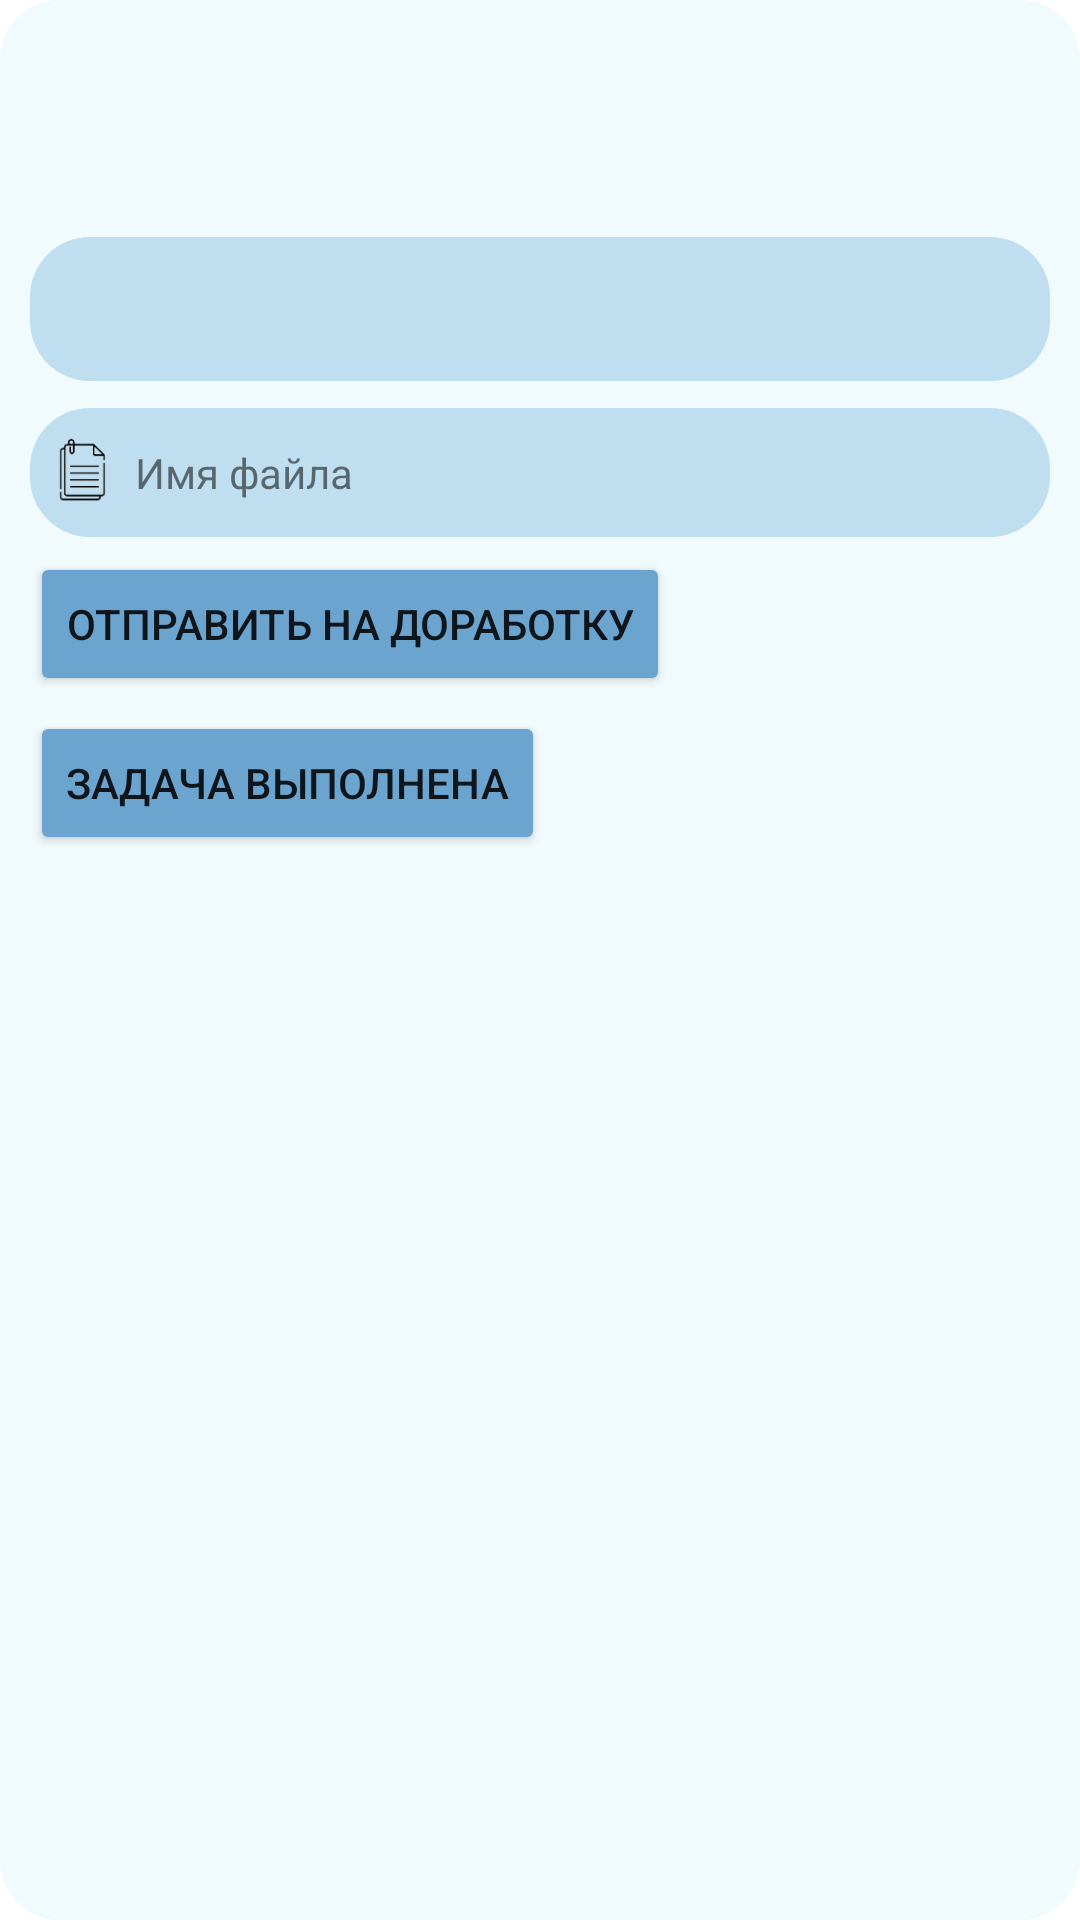

Locate icon controls on the screen. Image size 1080*1920, boxes as (x1, y1, x2, y2).
document: (59, 438, 105, 501)
